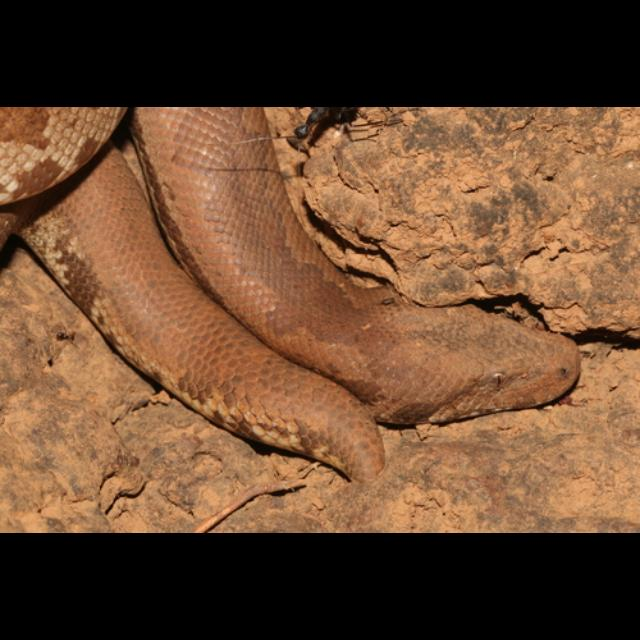snake: (0, 107, 602, 471)
